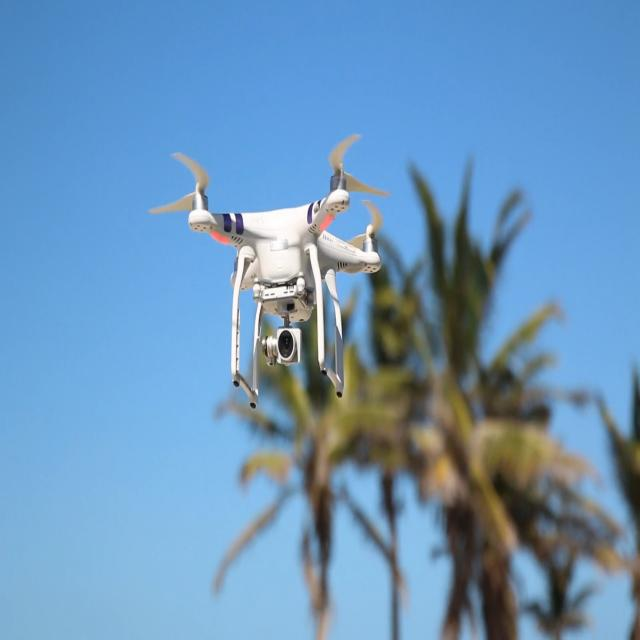Drone: (148, 114, 391, 407)
